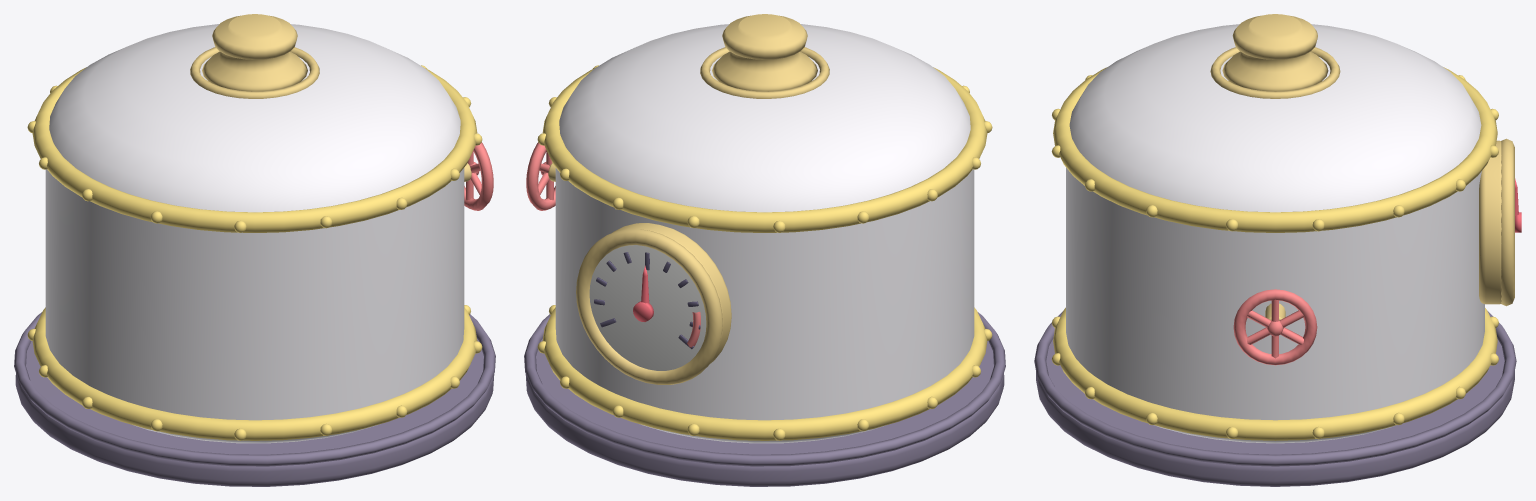
Rendered from AirTank.glb.
3 renders of one model, left to right at view 1: azimuth 30°, elevation 25°; view 2: azimuth 150°, elevation 25°; view 3: azimuth 270°, elevation 25°, orthographic.
Parts seen in each view (by area): view 1: Tank, Feet, TankBands, Brass, DialRed; view 2: Tank, Feet, TankBands, Brass, Dial, DialRed, Ticks, Needle; view 3: Tank, Feet, TankBands, Brass, DialRed.
Boxes of the visible parts, bbox=[...] form: Tank: bbox=[45, 24, 464, 443]; Feet: bbox=[14, 312, 495, 486]; TankBands: bbox=[27, 65, 482, 440]; Brass: bbox=[190, 14, 471, 181]; DialRed: bbox=[464, 142, 493, 210]; Tank: bbox=[555, 24, 974, 443]; Feet: bbox=[524, 312, 1005, 486]; TankBands: bbox=[537, 65, 992, 440]; Brass: bbox=[548, 14, 829, 384]; Dial: bbox=[589, 245, 706, 370]; DialRed: bbox=[526, 142, 700, 347]; Ticks: bbox=[594, 252, 700, 349]; Needle: bbox=[633, 265, 653, 321]; Tank: bbox=[1066, 24, 1484, 443]; Feet: bbox=[1034, 311, 1516, 486]; TankBands: bbox=[1051, 67, 1498, 440]; Brass: bbox=[1210, 14, 1514, 320]; DialRed: bbox=[1233, 289, 1317, 365].
Size of the model in its own units: 5.84 by 4.7 by 5.7.
